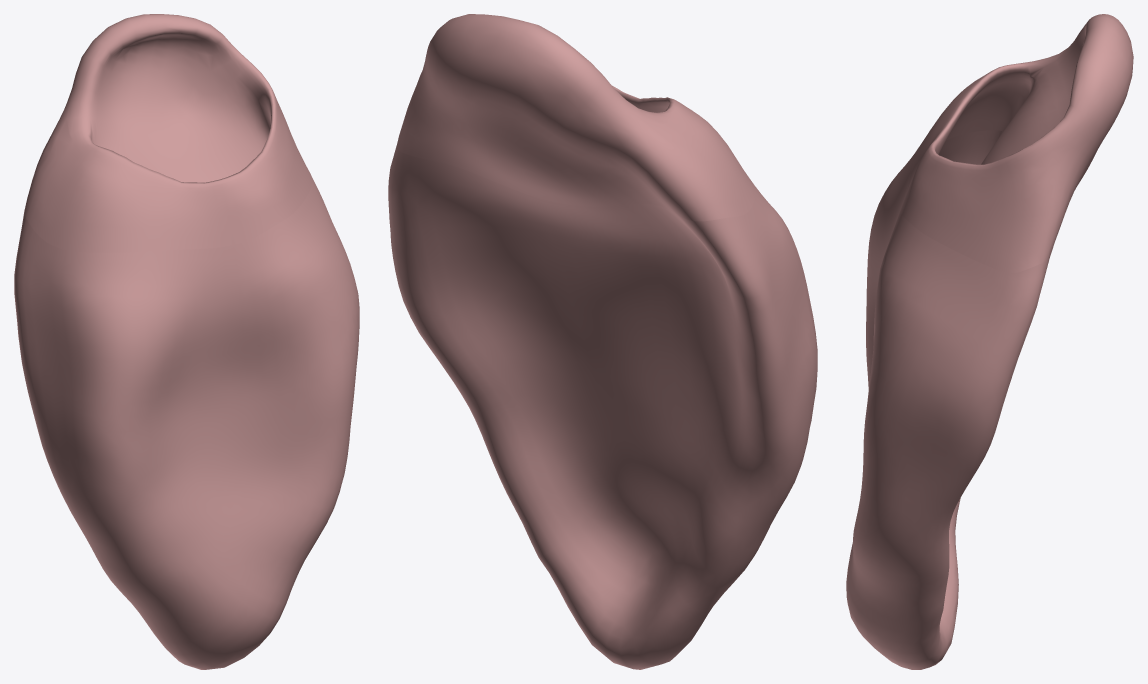
The model's file is VH_F_Vagina.fbx.
3 renders of one model, left to right at view 1: azimuth 30°, elevation 25°; view 2: azimuth 150°, elevation 25°; view 3: azimuth 270°, elevation 25°, orthographic. The views are drawn at different scales.
Parts seen in each view (by area): view 1: VH_F_vagina, VH_F_cervicovaginal_junction; view 2: VH_F_vagina, VH_F_cervicovaginal_junction; view 3: VH_F_vagina, VH_F_cervicovaginal_junction.
Part boxes in pixels (x1=…): VH_F_vagina: x1=14, y1=175, x2=359, y2=669; VH_F_cervicovaginal_junction: x1=24, y1=14, x2=312, y2=252; VH_F_vagina: x1=388, y1=147, x2=817, y2=669; VH_F_cervicovaginal_junction: x1=396, y1=14, x2=754, y2=221; VH_F_vagina: x1=846, y1=130, x2=1049, y2=669; VH_F_cervicovaginal_junction: x1=901, y1=14, x2=1133, y2=272.
Bounding box in the file's own units: 4.45 × 7.78 × 3.13.
